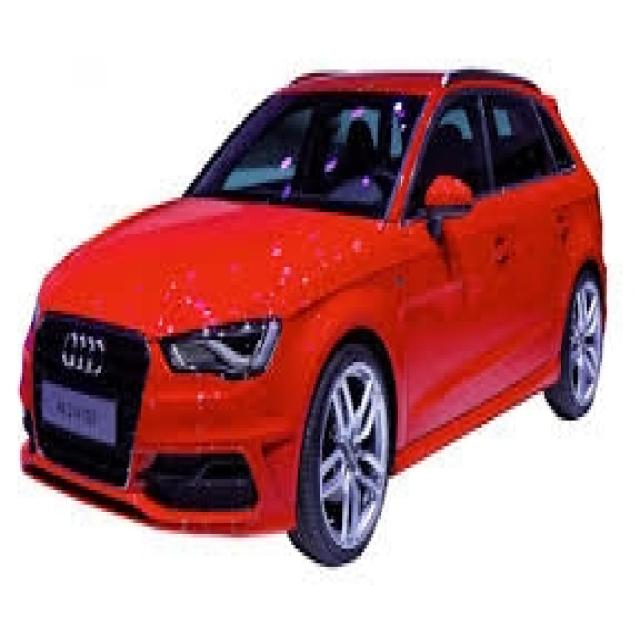red: (20, 57, 606, 528)
